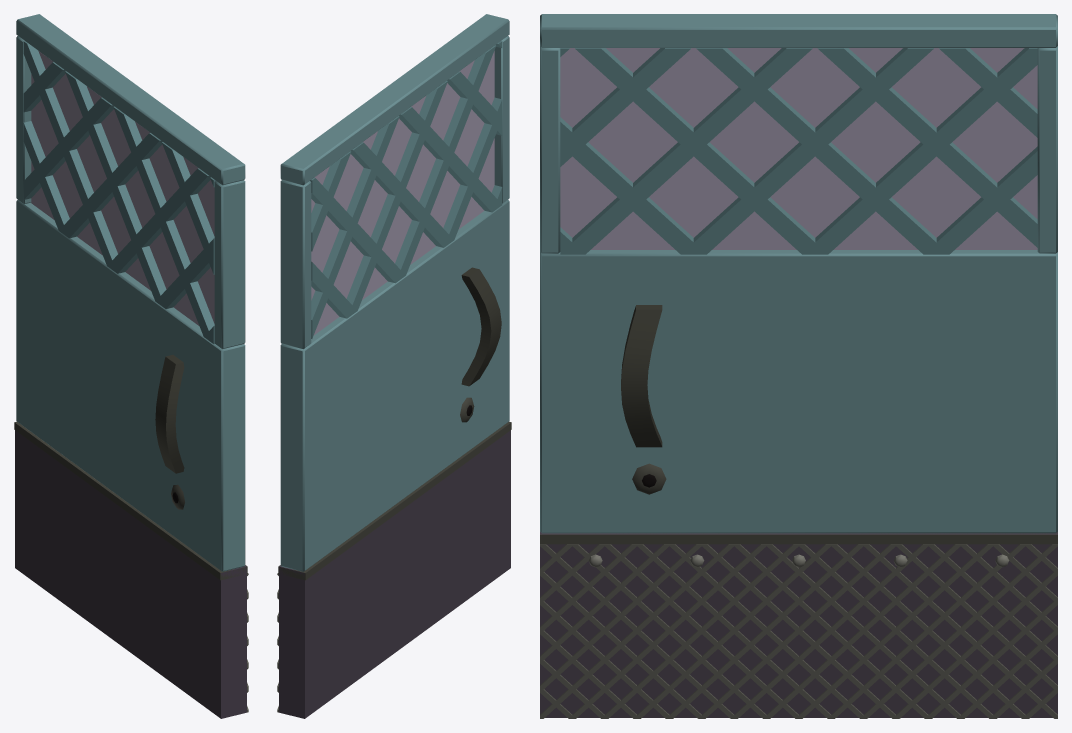
The model's file is door_lattice_b.glb.
The picture shows the model from 3 angles, left to right: view 1: azimuth 30°, elevation 25°; view 2: azimuth 150°, elevation 25°; view 3: azimuth 270°, elevation 25°; orthographic projection. The views are drawn at different scales.
Visible parts, largest first — view 1: plate_11_11, mesh_plate_5_13, lattice_10_11, lattice_back_12_13, handle_3_3, mesh_trim_4_3; view 2: plate_11_11, mesh_plate_5_13, lattice_10_11, lattice_back_12_13, mesh_trim_4_3, handle_3_3; view 3: plate_11_11, mesh_plate_5_13, lattice_back_12_13, lattice_10_11, mesh_6_3, mesh_trim_4_3, handle_3_3.
Boxes of the visible parts, bbox=[...] form: plate_11_11: bbox=[16, 14, 245, 571]; mesh_plate_5_13: bbox=[15, 430, 246, 718]; lattice_10_11: bbox=[23, 41, 215, 343]; lattice_back_12_13: bbox=[31, 51, 214, 325]; handle_3_3: bbox=[155, 355, 184, 473]; mesh_trim_4_3: bbox=[14, 421, 247, 580]; plate_11_11: bbox=[280, 14, 509, 571]; mesh_plate_5_13: bbox=[279, 430, 510, 718]; lattice_10_11: bbox=[310, 41, 502, 338]; lattice_back_12_13: bbox=[311, 51, 494, 335]; mesh_trim_4_3: bbox=[278, 421, 511, 580]; handle_3_3: bbox=[461, 267, 501, 386]; plate_11_11: bbox=[540, 14, 1057, 533]; mesh_plate_5_13: bbox=[540, 532, 1057, 717]; lattice_back_12_13: bbox=[560, 48, 1037, 249]; lattice_10_11: bbox=[560, 48, 1037, 254]; mesh_6_3: bbox=[540, 544, 1057, 718]; mesh_trim_4_3: bbox=[540, 533, 1057, 544]; handle_3_3: bbox=[621, 305, 662, 447].
Bounding box in the file's own units: 0.2515 × 1.84 × 1.25.
